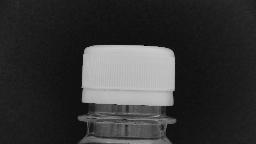Loose Cap: (71, 84, 181, 130)
